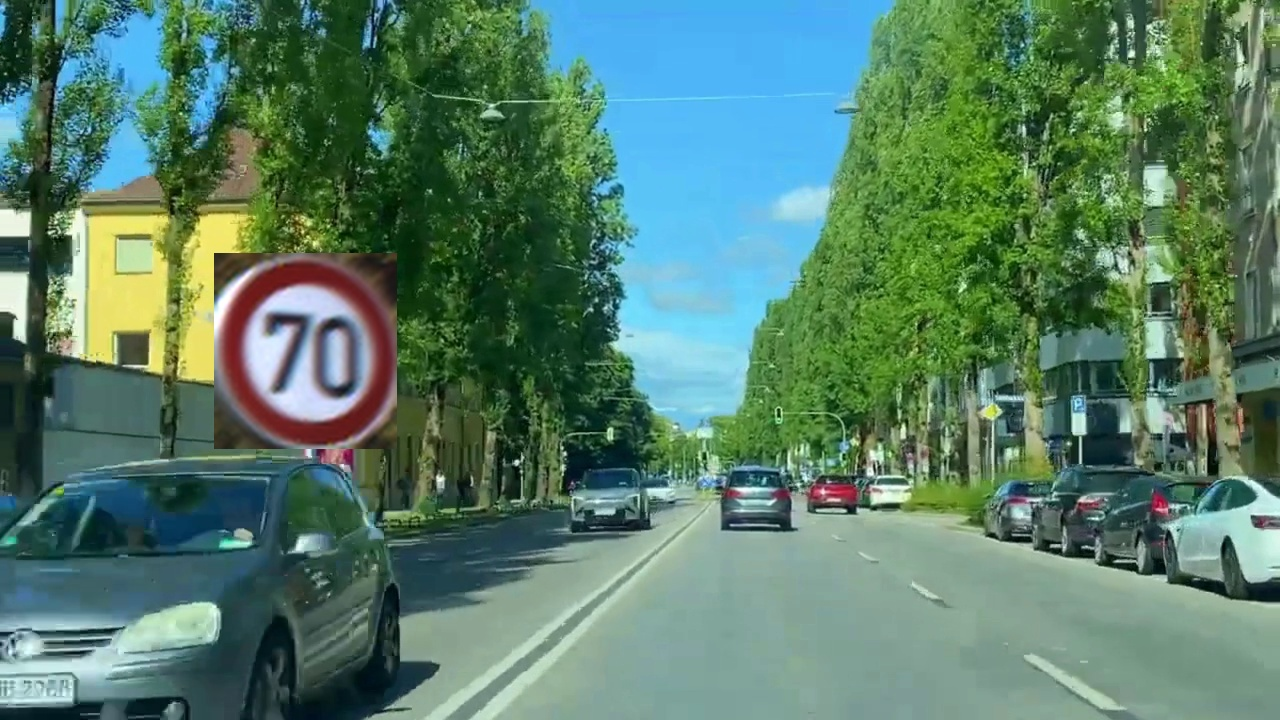Speed 70: (214, 253, 397, 449)
